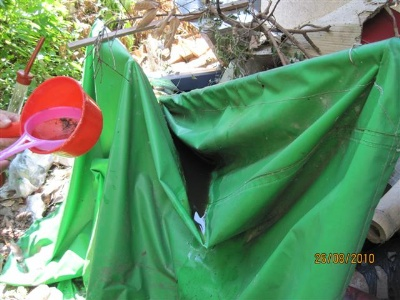bowl: (19, 75, 104, 159)
plastic_bag: (81, 24, 400, 300), (5, 219, 104, 300)
